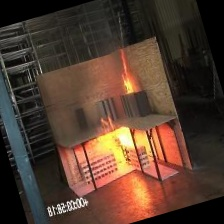fire: (91, 116, 146, 174), (108, 55, 144, 109)
